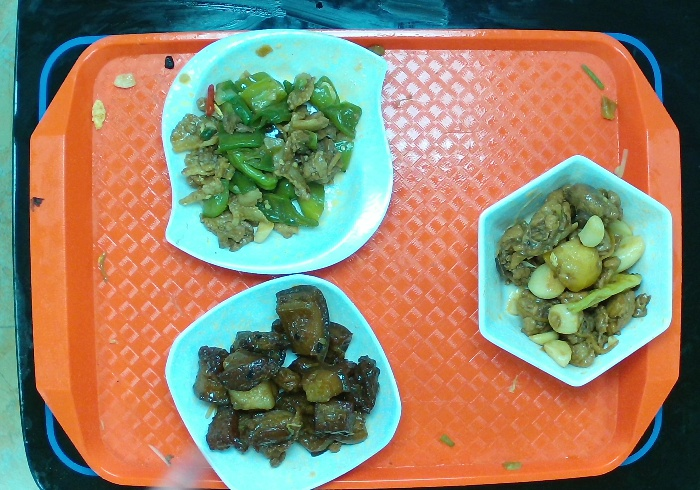RJxy-Liu_Jiao_Wan: (466, 152, 675, 387)
RJxy-Shuang_Jiao_Pan: (158, 26, 397, 276)
RJxy-Si_Fang_Wan: (160, 273, 403, 490)
